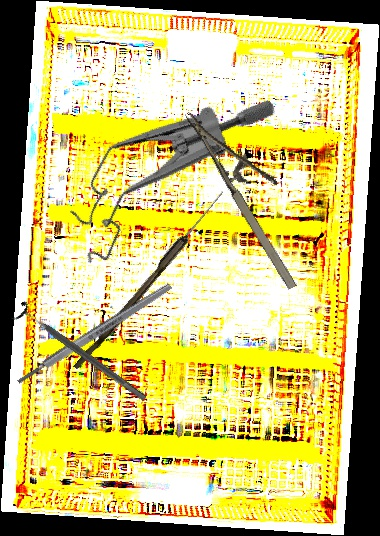Fixation Ring: (10, 299, 152, 409)
Needle Holder: (184, 91, 326, 293)
Scalpel Handle: (15, 281, 174, 387)
Speculum: (51, 42, 279, 308)
Surgical Spoon: (73, 187, 227, 374)
